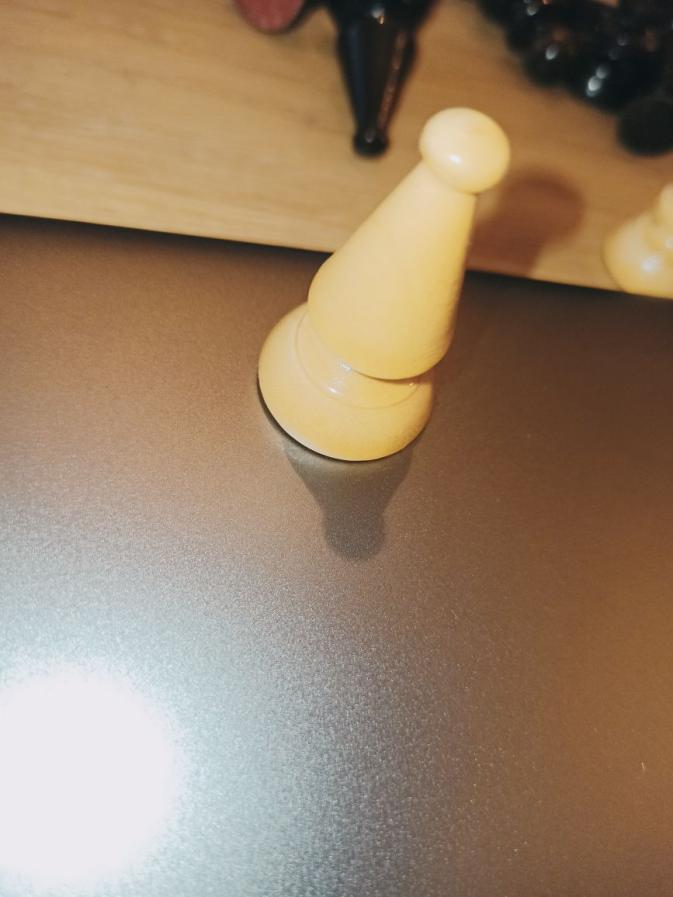wbishop: (257, 107, 510, 464)
